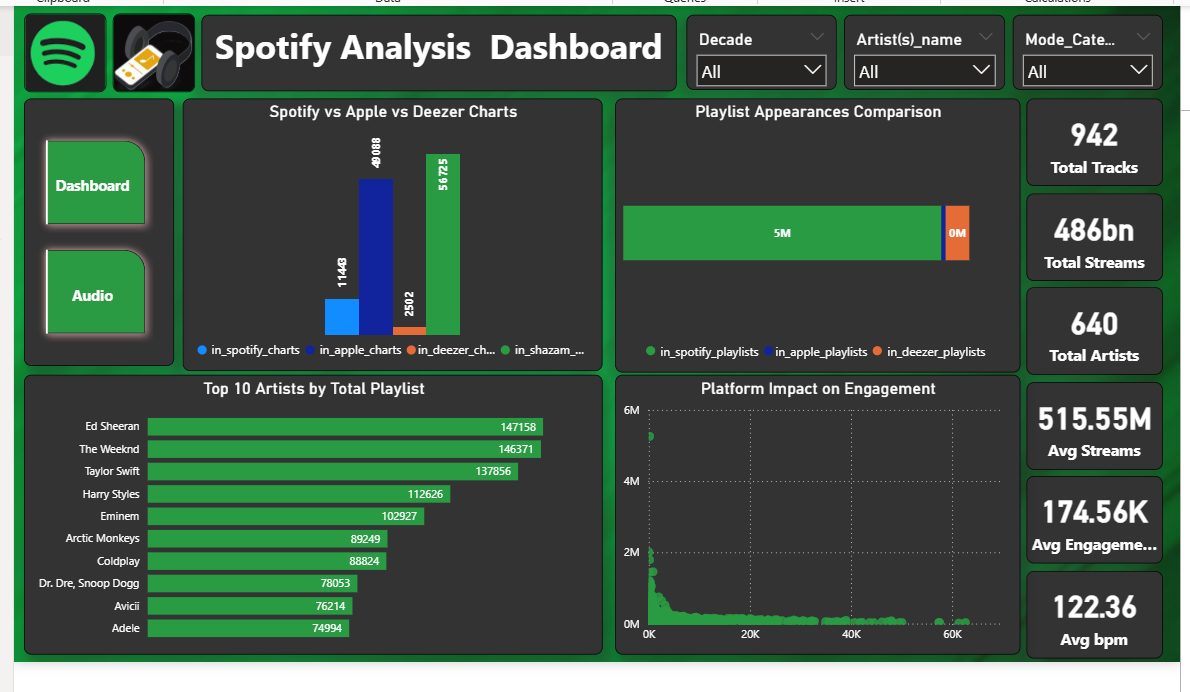

The dashboard page shown, as its layout file describes it:
{"tool":"powerbi","page":{"name":"Platform Performance","canvas":[1280,720],"ordinal":2},"visuals":[{"type":"card","fields":{"Values":["Real_Time_Streaming_Analytics.Total Artists"]},"box":[1110.9,308.8,149.6,96],"z":0},{"type":"card","fields":{"Values":["Real_Time_Streaming_Analytics.Total Streams"]},"box":[1110.9,205.2,149.6,96],"z":1000},{"type":"card","fields":{"Values":["Real_Time_Streaming_Analytics.Total Tracks"]},"box":[1110.9,101.5,149.6,96],"z":2000},{"type":"card","fields":{"Values":["Real_Time_Streaming_Analytics.Avg bpm"]},"box":[1110.9,619.8,149.6,96],"z":3000},{"type":"card","fields":{"Values":["Real_Time_Streaming_Analytics.Avg Streams"]},"box":[1110.9,412.5,149.6,96.1],"z":4000},{"type":"card","fields":{"Values":["Real_Time_Streaming_Analytics.Avg Engagement"]},"box":[1110.9,516.2,149.6,96],"z":5000},{"type":"textbox","box":[205.8,9.6,521.4,83.7],"z":6000},{"type":"barChart","title":"Playlist Appearances Comparison","fields":{"Y":["Sum(Real_Time_Streaming_Analytics.in_spotify_playlists)","Sum(Real_Time_Streaming_Analytics.in_apple_playlists)","Sum(Real_Time_Streaming_Analytics.in_deezer_playlists)"]},"box":[660,101.5,444.6,300.5],"z":7000},{"type":"clusteredColumnChart","title":"Spotify vs Apple vs Deezer Charts","fields":{"Y":["Sum(Real_Time_Streaming_Analytics.in_spotify_charts)","Sum(Real_Time_Streaming_Analytics.in_apple_charts)","Sum(Real_Time_Streaming_Analytics.in_deezer_charts)","Sum(Real_Time_Streaming_Analytics.in_shazam_charts)"]},"box":[185.2,101.5,461.1,299.1],"z":8000},{"type":"barChart","title":"Top 10 Artists by Total Playlist","fields":{"Category":["Real_Time_Streaming_Analytics.artist(s)_name"],"Y":["Sum(Real_Time_Streaming_Analytics.Total Playlist)"]},"box":[11,404.8,635.3,307.4],"z":9000},{"type":"scatterChart","title":"Platform Impact on Engagement","fields":{"Y":["Sum(Real_Time_Streaming_Analytics.Engagement_Score)"],"X":["Real_Time_Streaming_Analytics.Total Playlist"]},"box":[660,404.8,444.6,307.4],"z":10000},{"type":"slicer","fields":{"Values":["Real_Time_Streaming_Analytics.Decade"]},"box":[738.3,9.6,164.7,82.3],"z":11000},{"type":"slicer","fields":{"Values":["Real_Time_Streaming_Analytics.artist(s)_name"]},"box":[911.2,9.6,177,82.3],"z":12000},{"type":"slicer","fields":{"Values":["Real_Time_Streaming_Analytics.Mode_Category"]},"box":[1096.4,9.6,164.7,82.3],"z":13000},{"type":"image","box":[11,8.9,90.6,86.4],"z":14000},{"type":"image","box":[108.4,8.9,90.6,86.4],"z":15000},{"type":"textbox","box":[11,101.5,164.7,293.7],"z":16000},{"type":"pageNavigator","box":[26.1,138.6,127.6,230.5],"z":17000}]}

Visuals, with their boxes on the page's 1280x720 design canvas (x1, y1, x2, y2). These are canvas units, not pixel positions in the 1190x692 screenshot, which may show the page scaled, cropped or inside an application window:
card - Real_Time_Streaming_Analytics.Total Artists: (1111,309,1260,405)
card - Real_Time_Streaming_Analytics.Total Streams: (1111,205,1260,301)
card - Real_Time_Streaming_Analytics.Total Tracks: (1111,102,1260,198)
card - Real_Time_Streaming_Analytics.Avg bpm: (1111,620,1260,716)
card - Real_Time_Streaming_Analytics.Avg Streams: (1111,412,1260,509)
card - Real_Time_Streaming_Analytics.Avg Engagement: (1111,516,1260,612)
textbox: (206,10,727,93)
"Playlist Appearances Comparison" barChart: (660,102,1105,402)
"Spotify vs Apple vs Deezer Charts" clusteredColumnChart: (185,102,646,401)
"Top 10 Artists by Total Playlist" barChart: (11,405,646,712)
"Platform Impact on Engagement" scatterChart: (660,405,1105,712)
slicer - Real_Time_Streaming_Analytics.Decade: (738,10,903,92)
slicer - Real_Time_Streaming_Analytics.artist(s)_name: (911,10,1088,92)
slicer - Real_Time_Streaming_Analytics.Mode_Category: (1096,10,1261,92)
image: (11,9,102,95)
image: (108,9,199,95)
textbox: (11,102,176,395)
pageNavigator: (26,139,154,369)
